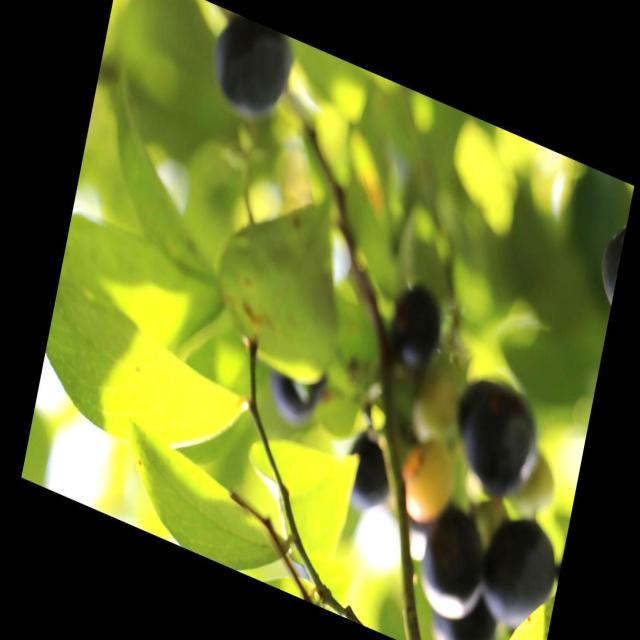blueberry: (446, 376, 546, 510), (473, 504, 563, 640), (204, 6, 298, 135), (415, 498, 493, 629), (338, 428, 400, 525), (386, 279, 444, 380), (269, 358, 327, 438)
